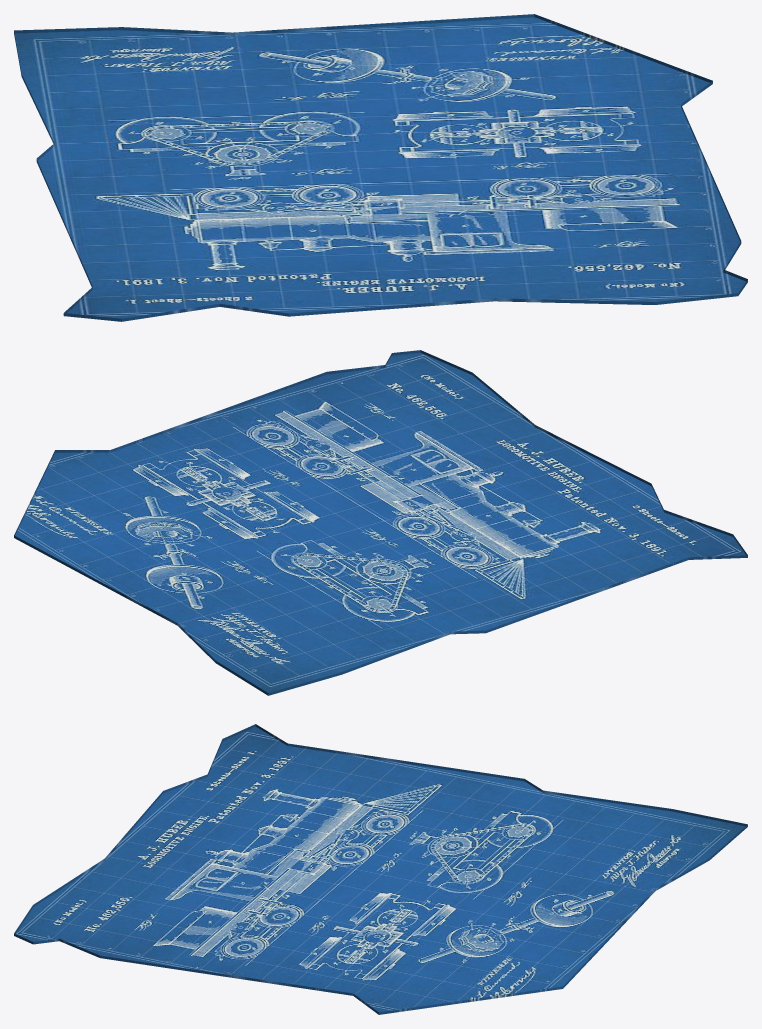
The model's file is blueprint deko.glb.
3 views of the same model, one above another, from view 1: azimuth 30°, elevation 25°; view 2: azimuth 150°, elevation 25°; view 3: azimuth 270°, elevation 25° (orthographic). The views are drawn at different scales.
Visible parts, largest first — view 1: Plane.002; view 2: Plane.002; view 3: Plane.002.
Boxes of the visible parts, <box> form: Plane.002: <box>14,14,747,321</box>; Plane.002: <box>14,350,747,695</box>; Plane.002: <box>14,724,747,1014</box>.
Size of the model in its own units: 9.34 by 0.0384 by 10.05.
2 materials, 1 textured.
